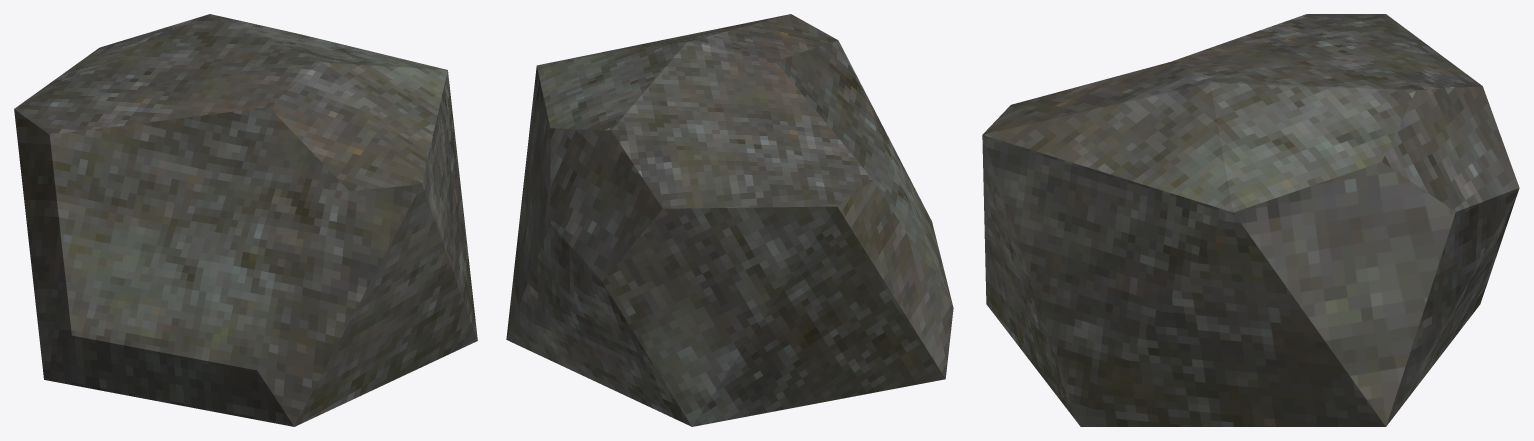
Rendered from big_rock.fbx.
3 views of the same model, side by side, from view 1: azimuth 30°, elevation 25°; view 2: azimuth 150°, elevation 25°; view 3: azimuth 270°, elevation 25° (orthographic). The views are drawn at different scales.
Visible parts, largest first — view 1: Icosphere; view 2: Icosphere; view 3: Icosphere.
Part boxes in pixels (left/top/right/bottom): Icosphere: left=14, top=14, right=477, bottom=426; Icosphere: left=506, top=14, right=953, bottom=426; Icosphere: left=982, top=14, right=1519, bottom=426.
Size of the model in its own units: 750 by 479 by 776.
